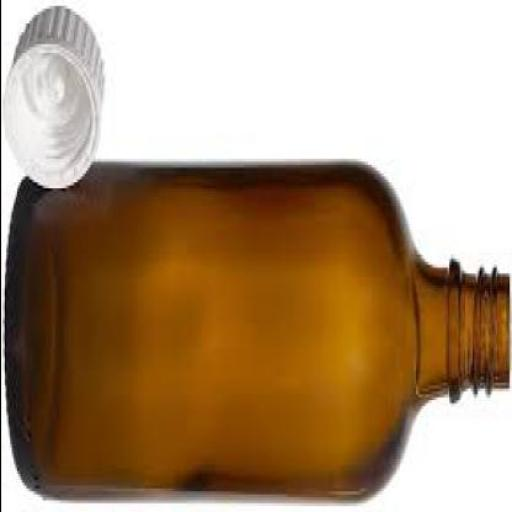glass: (7, 167, 511, 507)
plastic: (1, 6, 105, 198)
